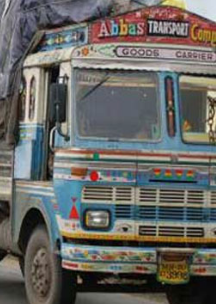truck: (1, 1, 216, 304)
